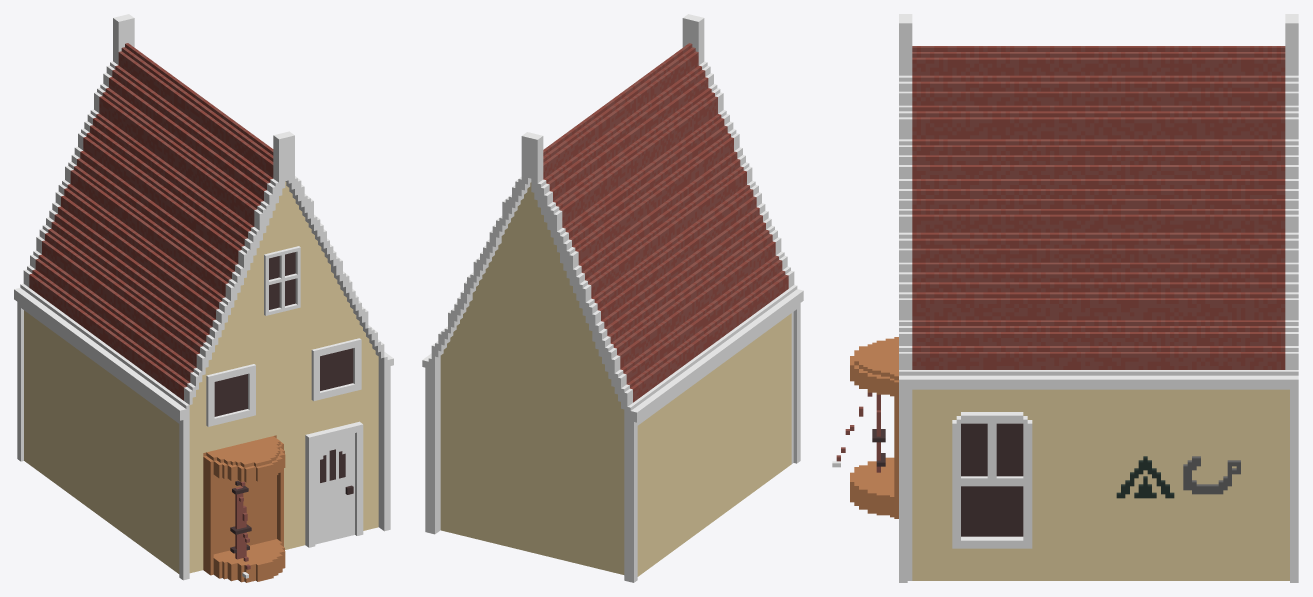
Rendered from House.obj.
The picture shows the model from 3 angles, left to right: view 1: azimuth 30°, elevation 25°; view 2: azimuth 150°, elevation 25°; view 3: azimuth 270°, elevation 25°; orthographic projection. The views are drawn at different scales.
Size of the model in its own units: 6.7 by 12.5 by 10.5.
